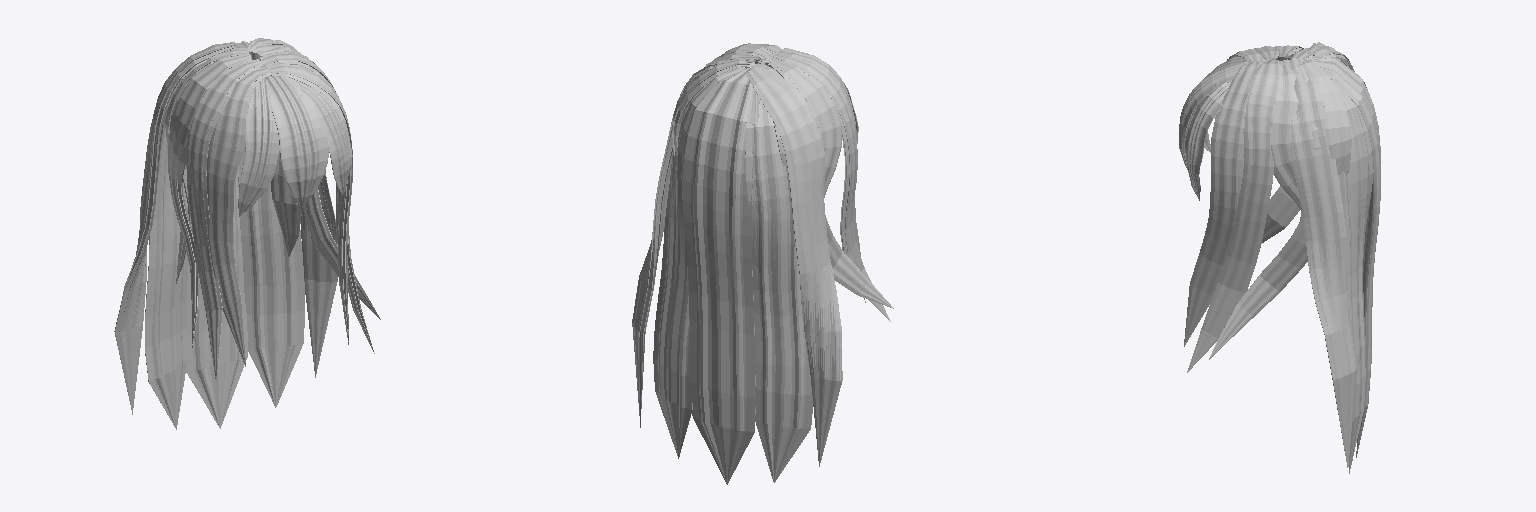
Rendered from EkidnaHair2.obj.
3 views of the same model, side by side, from view 1: azimuth 30°, elevation 25°; view 2: azimuth 150°, elevation 25°; view 3: azimuth 270°, elevation 25° (orthographic).
Visible parts, largest first — view 1: Hair; view 2: Hair; view 3: Hair.
Part boxes in pixels (x1,y1,x2,y2): Hair: (114,38,380,429); Hair: (632,43,893,484); Hair: (1179,42,1380,473).
Bounding box in the file's own units: 0.2976 × 0.5319 × 0.2418.